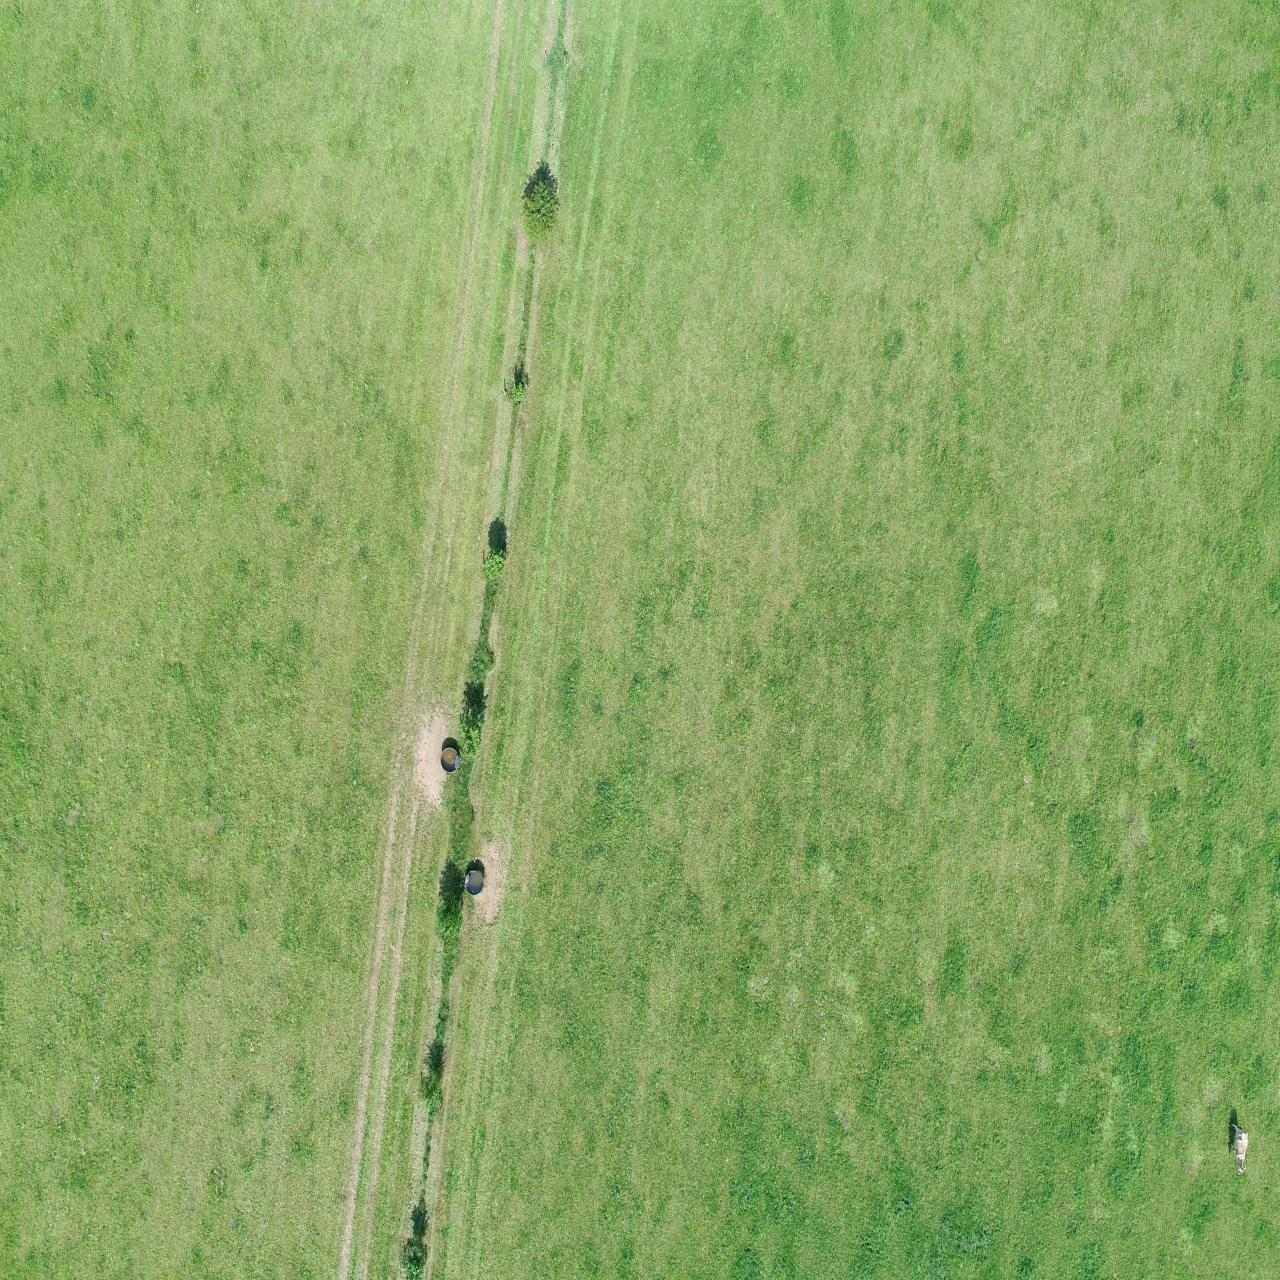cow: (1071, 537, 1139, 615), (849, 252, 892, 365), (1191, 449, 1238, 543)
